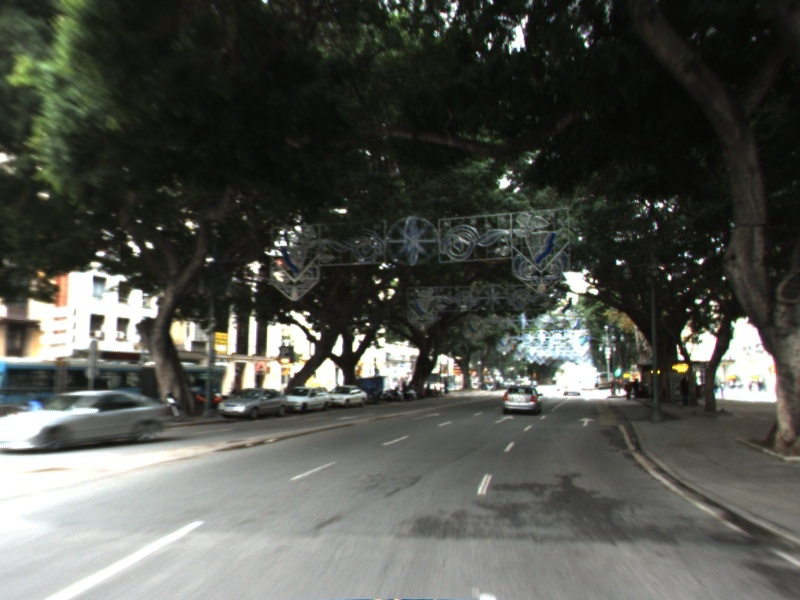STRAIGHT: (493, 413, 517, 425), (576, 415, 598, 428)
